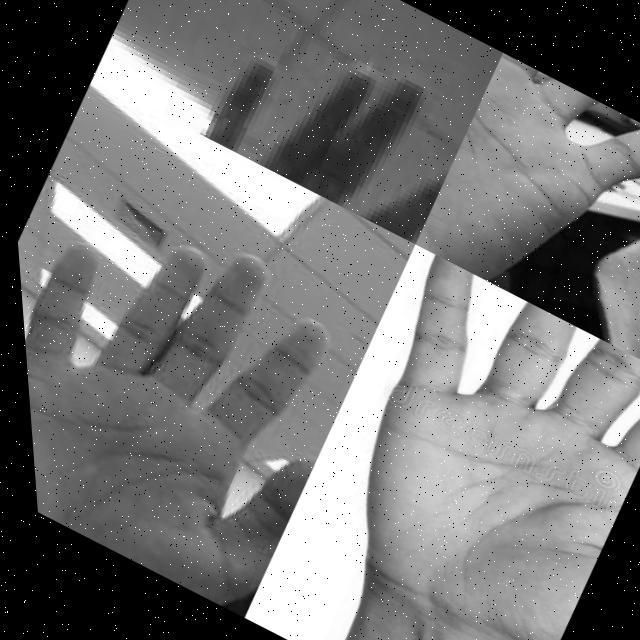no-gloves: (10, 170, 391, 617), (273, 253, 640, 640), (149, 0, 484, 244), (399, 52, 640, 371)
